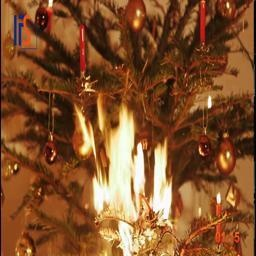fire: (74, 96, 174, 216)
